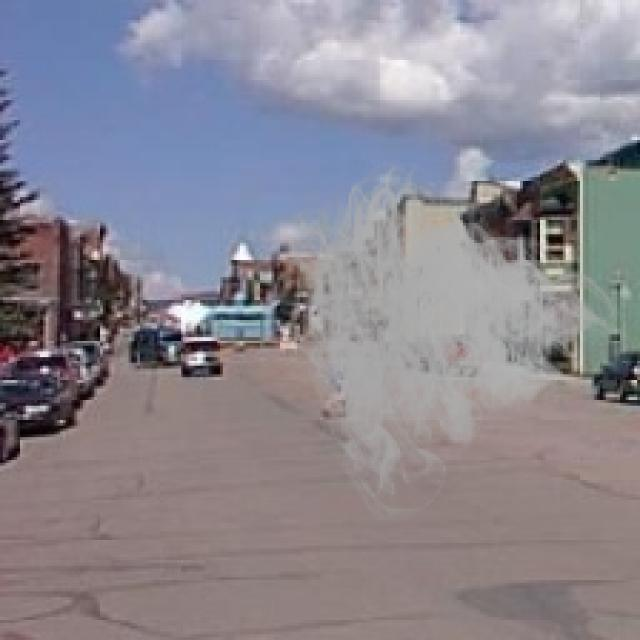smoke: (268, 152, 626, 528)
